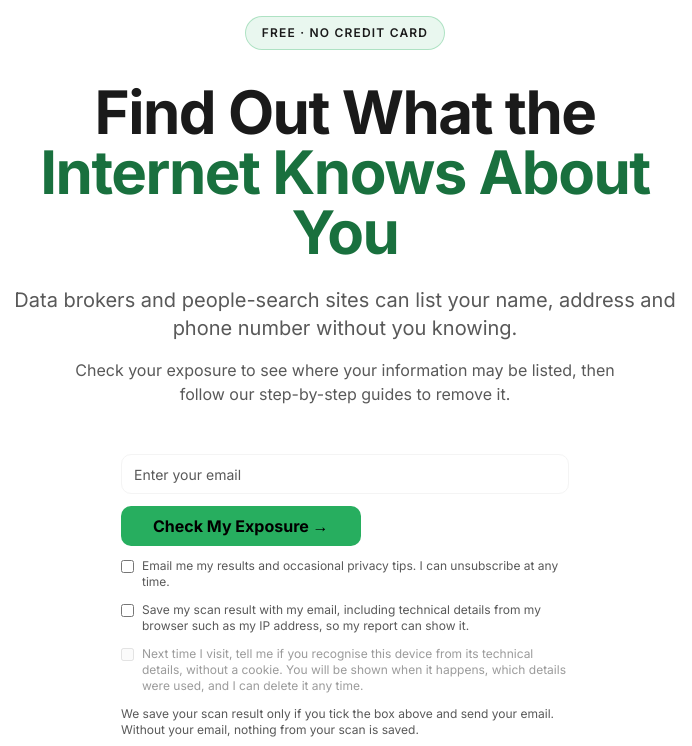
Test case: Scan page: the recognise opt-in box (MPC-7494) › is sent with its wording version when ticked, in the same request as the save consent
The image size is (692, 746).
Type "mpc7494+site@example.com" into the field named "Email address". click: (345, 474)
box: [121,454,569,494]
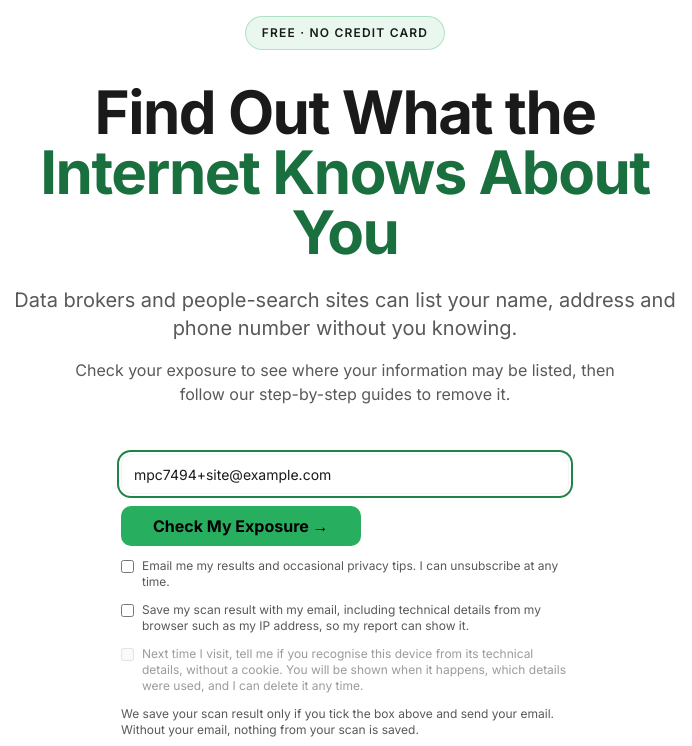
Click the checkbox labelled "Email me my results and occasional privacy tips". click: (128, 566)
box: [121,560,134,573]
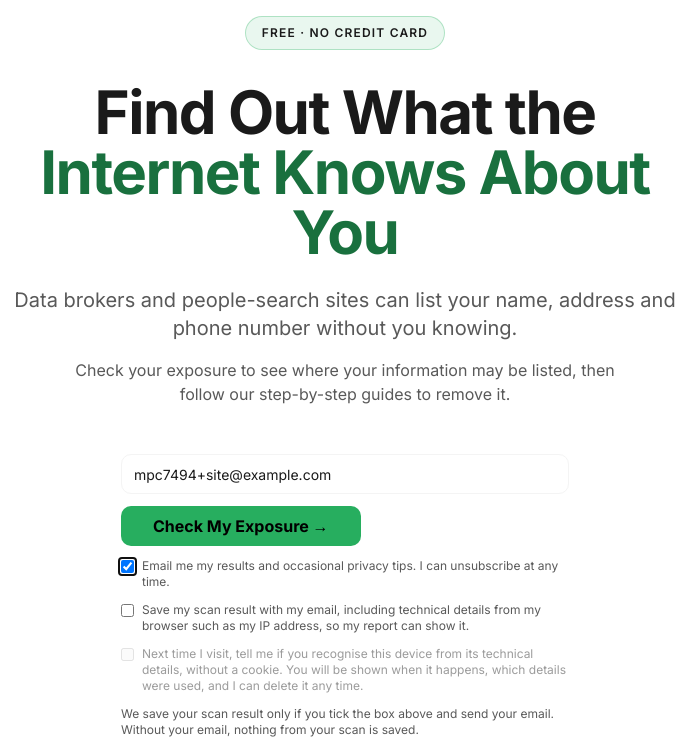
Click the checkbox named "Save my scan result with my email, including technical details from my browser such as my IP address, so my report can s". click: (128, 610)
box: [121,604,134,617]
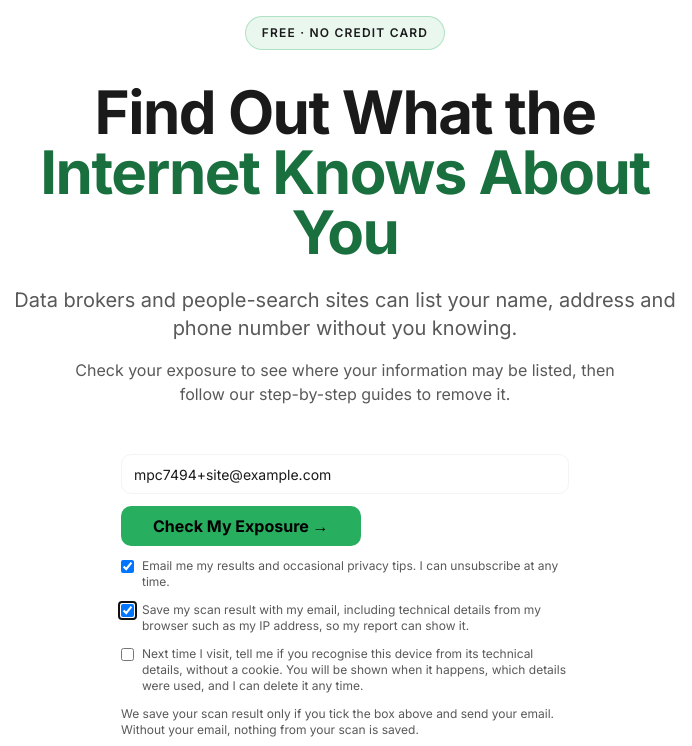
Click the checkbox named "Next time I visit, tell me if you recognise this device from its technical details, without a cookie. You will be shown ". click: (128, 654)
box: [121,648,134,661]
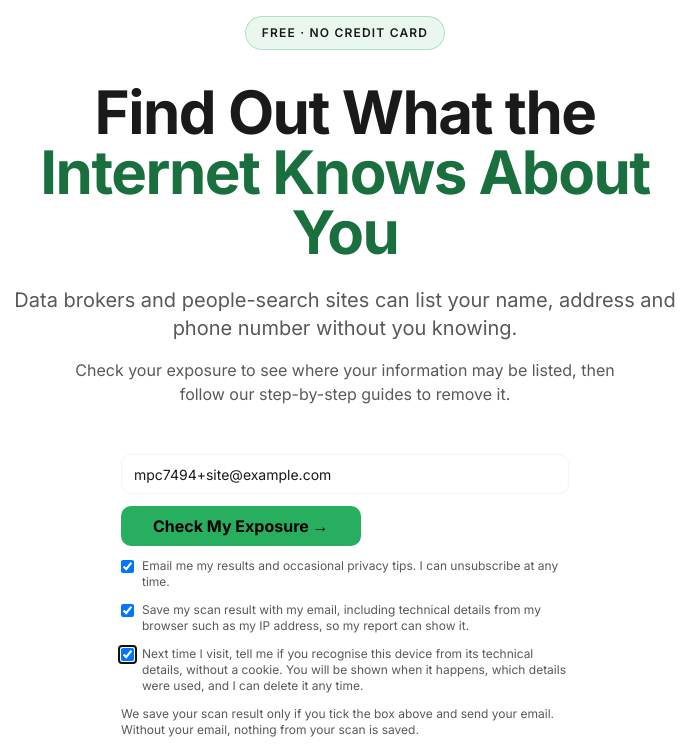
Click the button "Check My Exposure →". click: (241, 526)
box: [121,506,361,546]
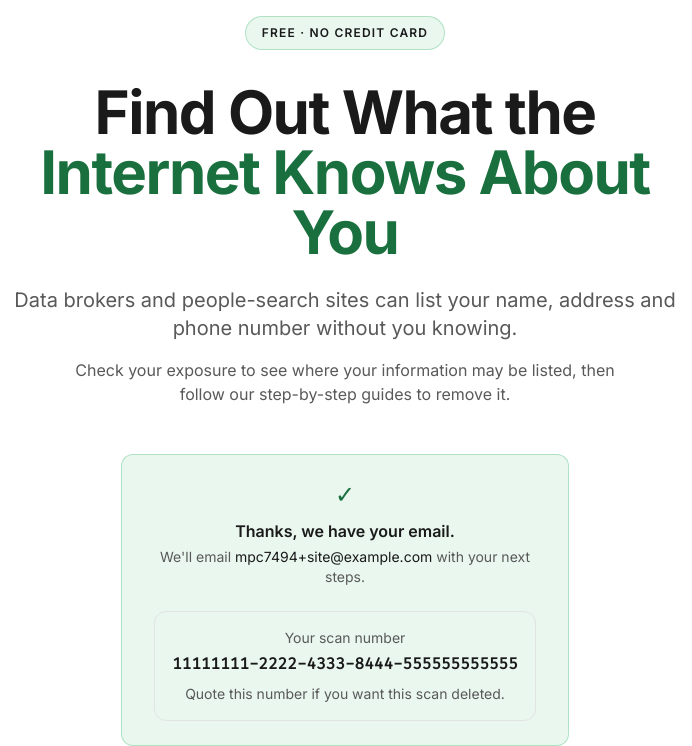
Now the message is shown, box [121,454,569,745]
